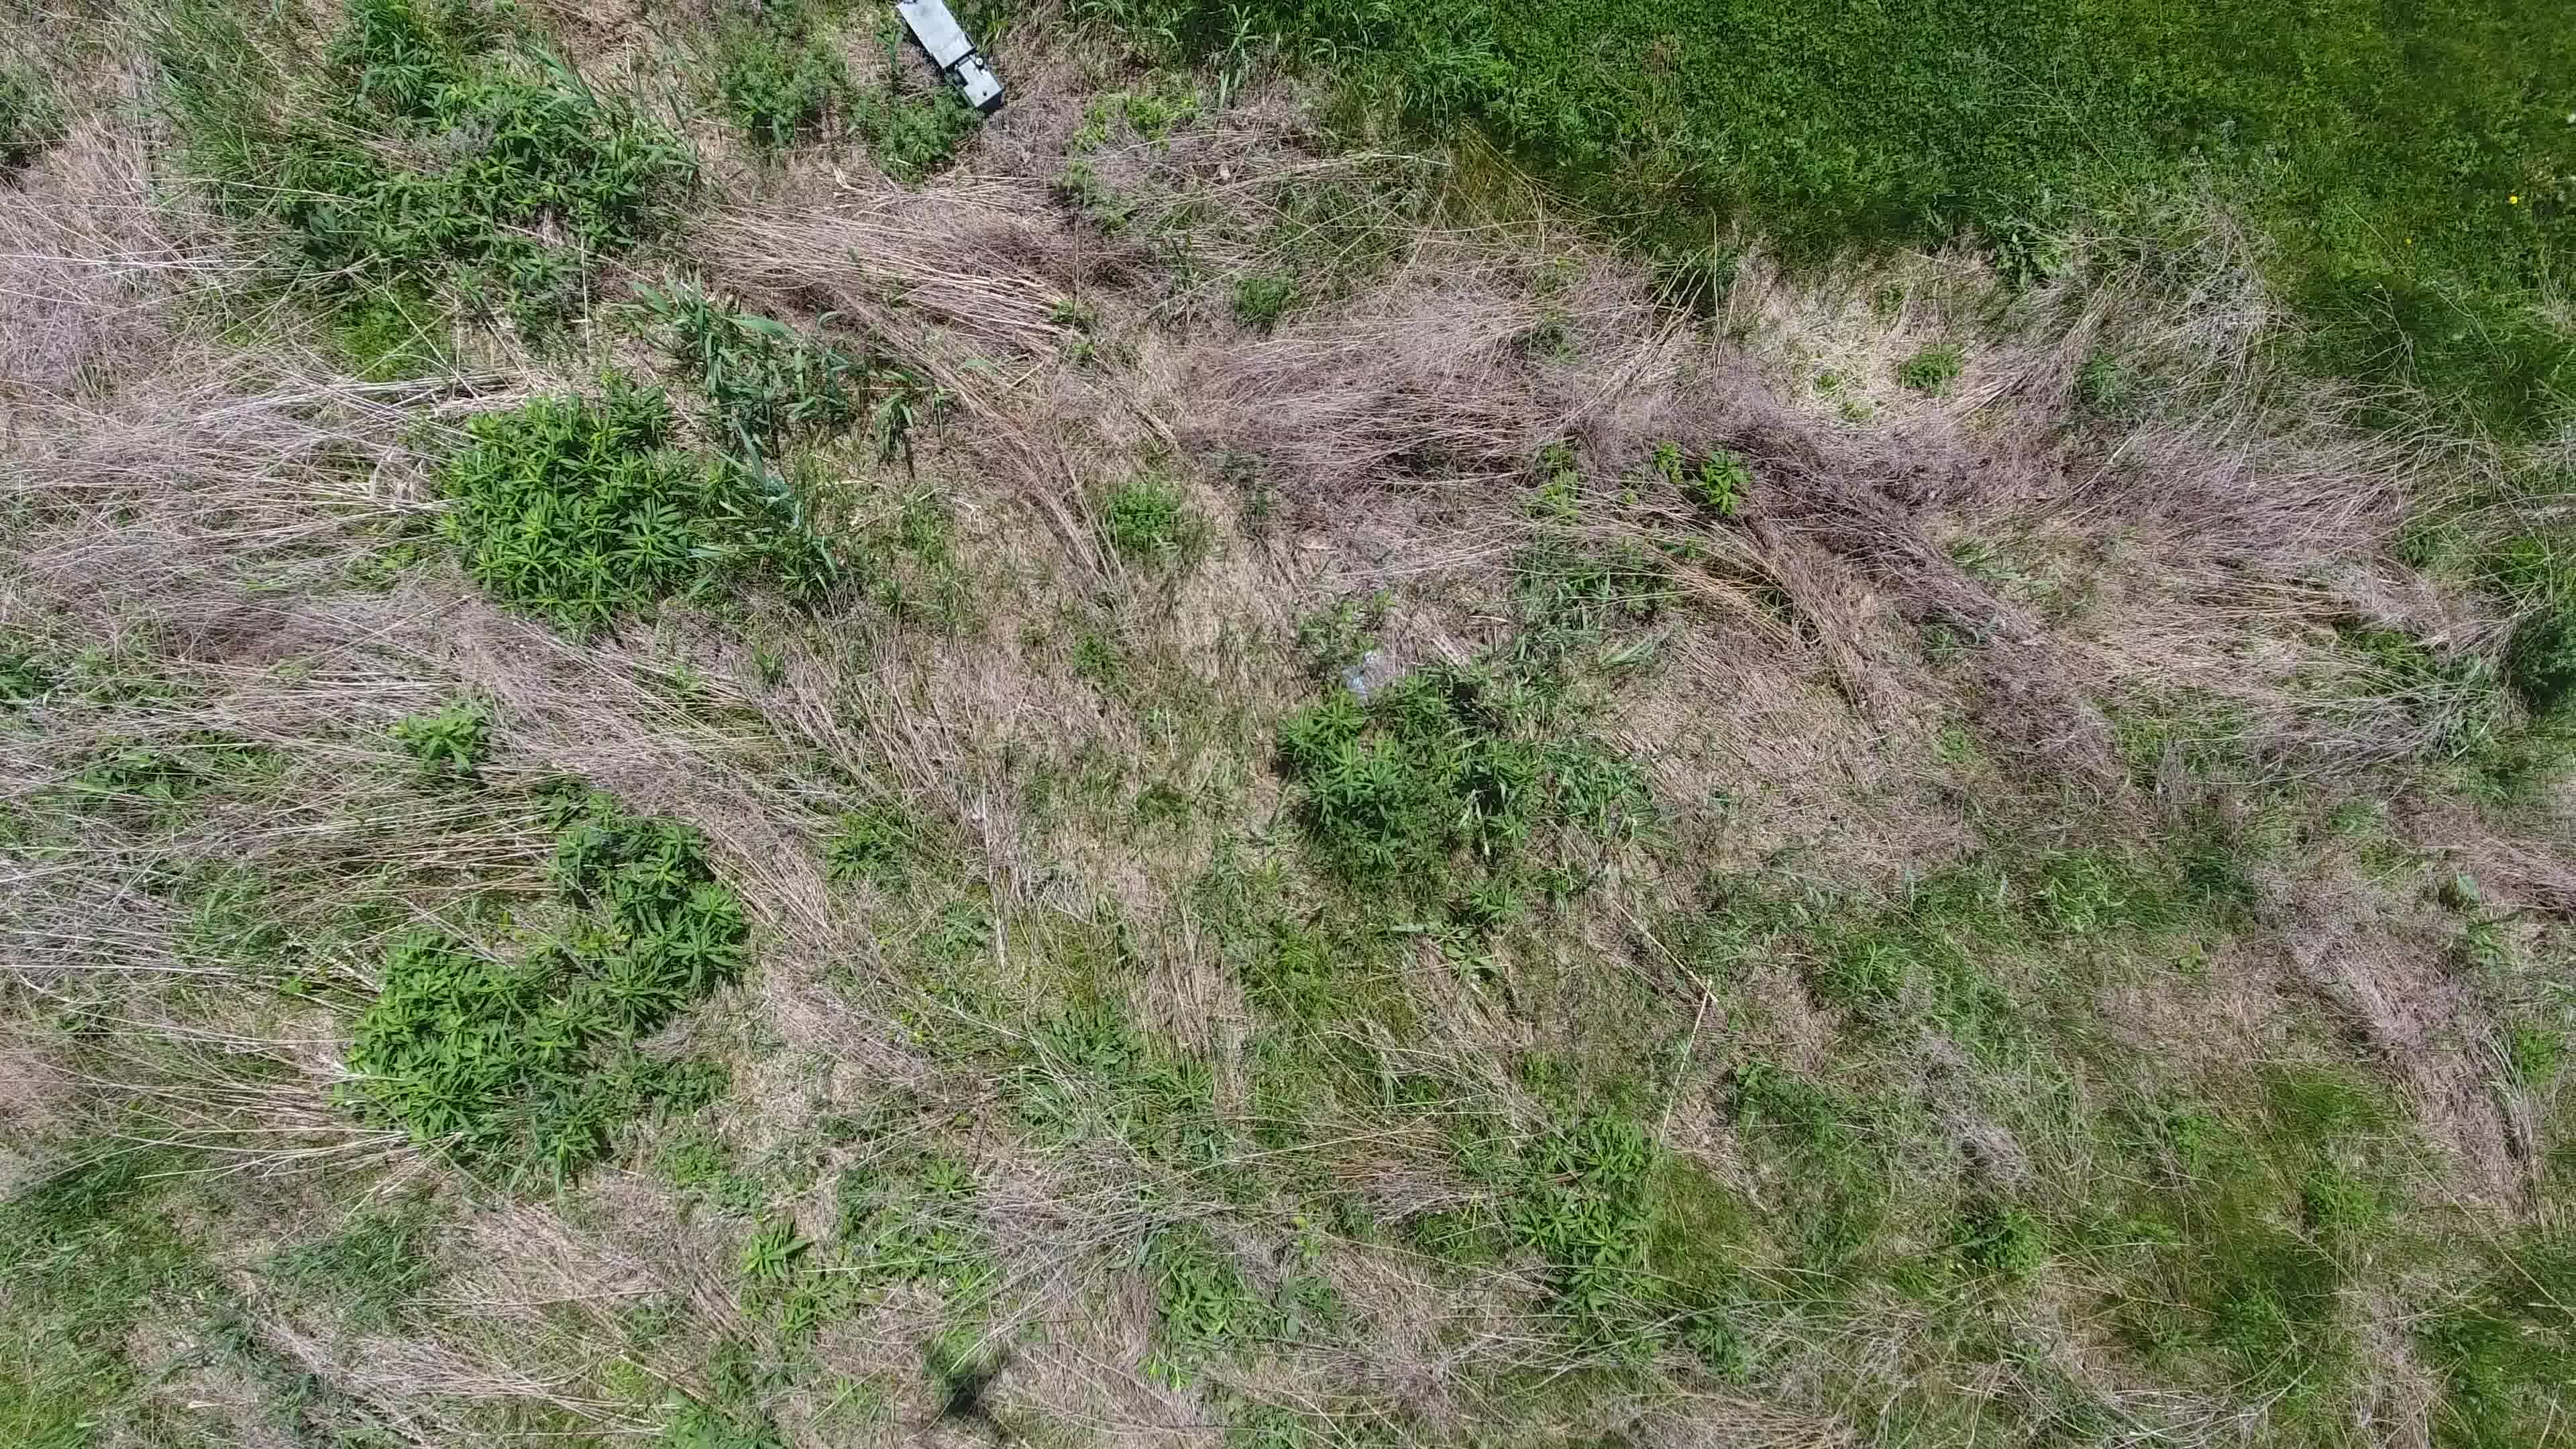transporter9: (893, 0, 1008, 119)
